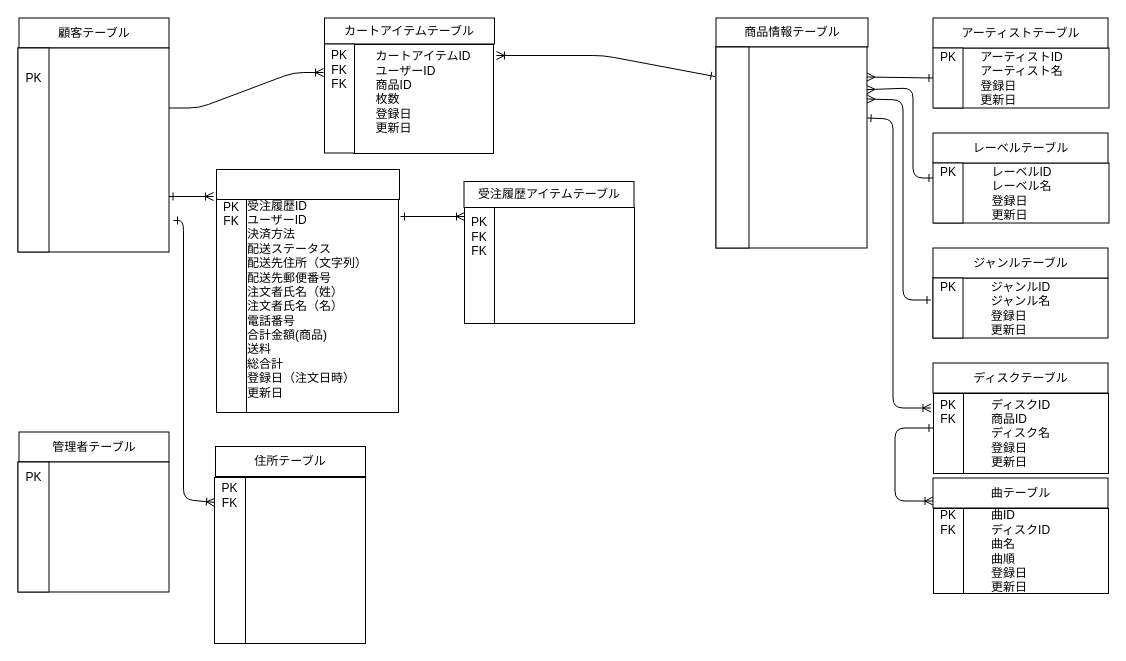
Image size: 1126x661. Some labels were removed from this diagram. The shapes that lost their labels are listed below. From the top down, each one's box as (x1, y1, x2, y2) in pixels, then its label:
(17, 47, 169, 252): ユーザーID 氏名（姓） 氏名（名） カナ氏名（姓） カナ氏名（名） メールアドレス パスワード 電話番号 退会状況 登録日 更新日
(715, 46, 749, 248): PK FK FK FK
(715, 46, 867, 248): 商品ID アーティストID レーベルID ジャンルID 商品名 値段 ジャケット画像 在庫数 販売ステータス 登録日 更新日
(216, 168, 400, 200): 受注履歴テーブル
(464, 206, 634, 324): 受注履歴アイテムID 受注履歴ID 商品ID（決済時） 枚数 金額（決済時） 登録日 更新日
(17, 461, 169, 592): ユーザーID 氏名 氏名（カナ） メールアドレス パスワード 電話番号 登録日 更新日
(214, 476, 366, 644): 住所ID ユーザーID 氏名（姓） 氏名（名） カナ氏名（姓） カナ氏名（名） 郵便番号 住所 電話番号 登録日 更新日
